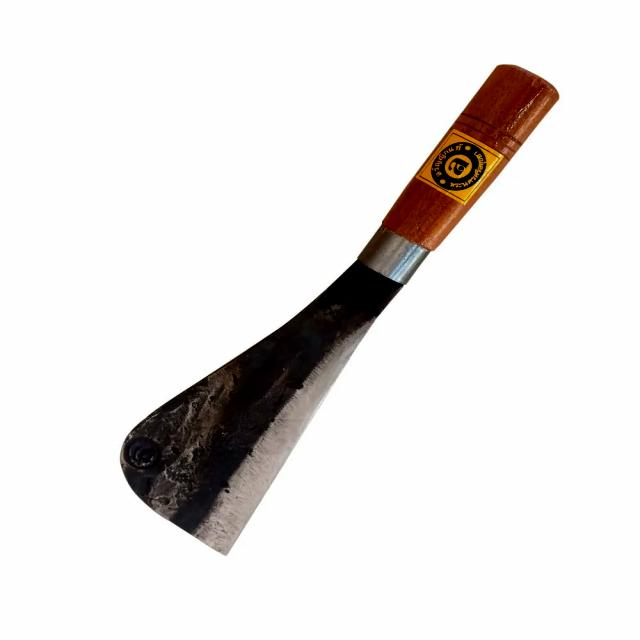eto: (101, 50, 577, 571)
